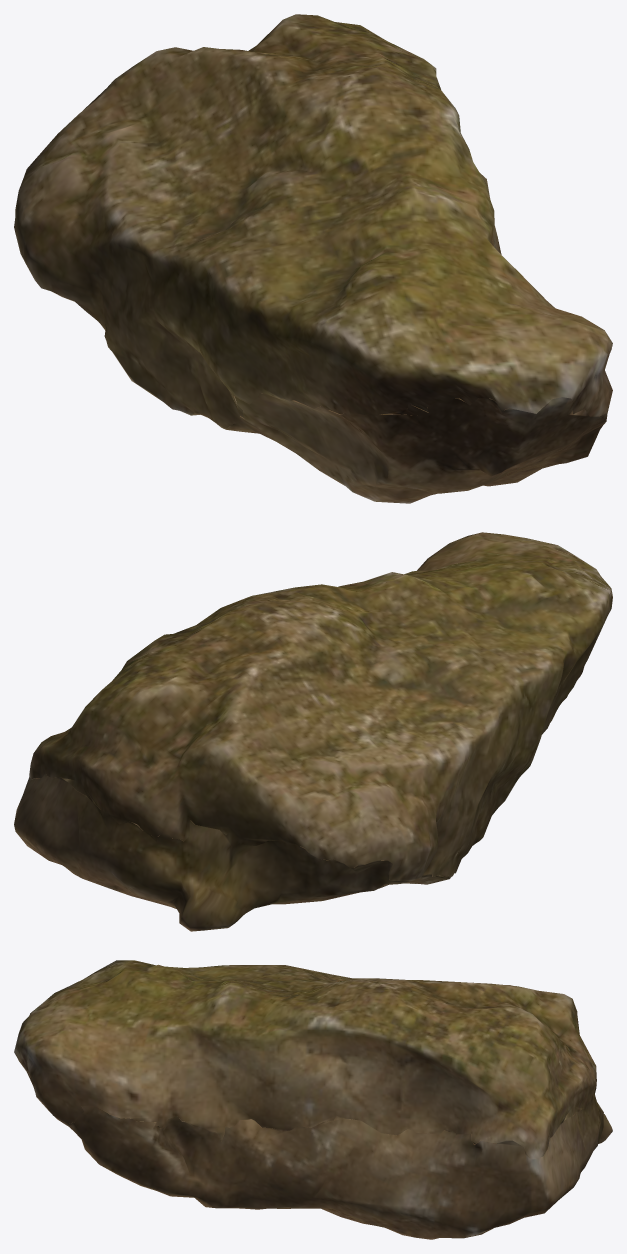
Rendered from rock_moss_05_2k.glb.
3 views of the same model, one above another, from view 1: azimuth 30°, elevation 25°; view 2: azimuth 150°, elevation 25°; view 3: azimuth 270°, elevation 25° (orthographic). The views are drawn at different scales.
Parts seen in each view (by area): view 1: rock_moss_set_01_rock05; view 2: rock_moss_set_01_rock05; view 3: rock_moss_set_01_rock05.
Boxes of the visible parts, <box> form: rock_moss_set_01_rock05: <box>14,14,612,503</box>; rock_moss_set_01_rock05: <box>14,532,612,931</box>; rock_moss_set_01_rock05: <box>14,960,612,1239</box>.
Size of the model in its own units: 1.82 by 1.21 by 3.
1 material, 1 textured.
